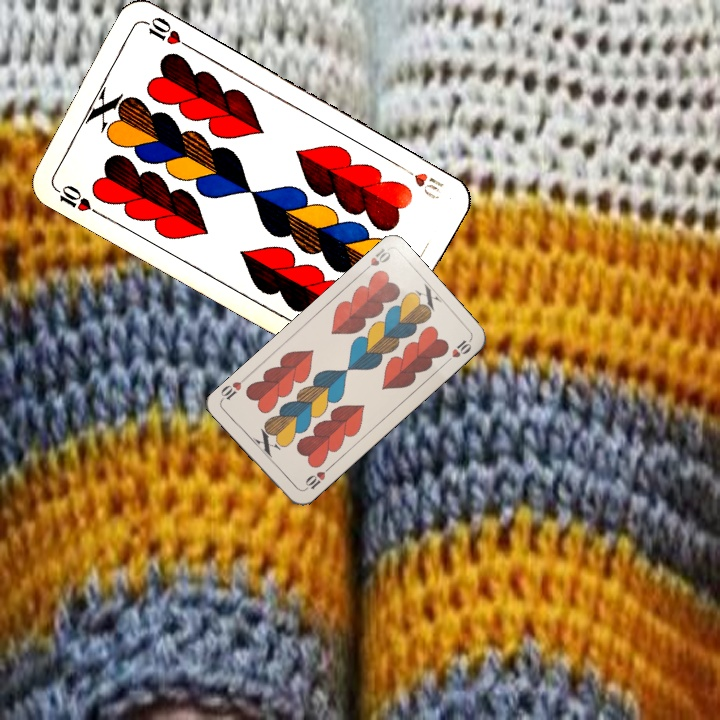H10: (395, 161, 447, 203), (49, 181, 103, 218), (357, 244, 393, 276), (299, 463, 333, 494)
